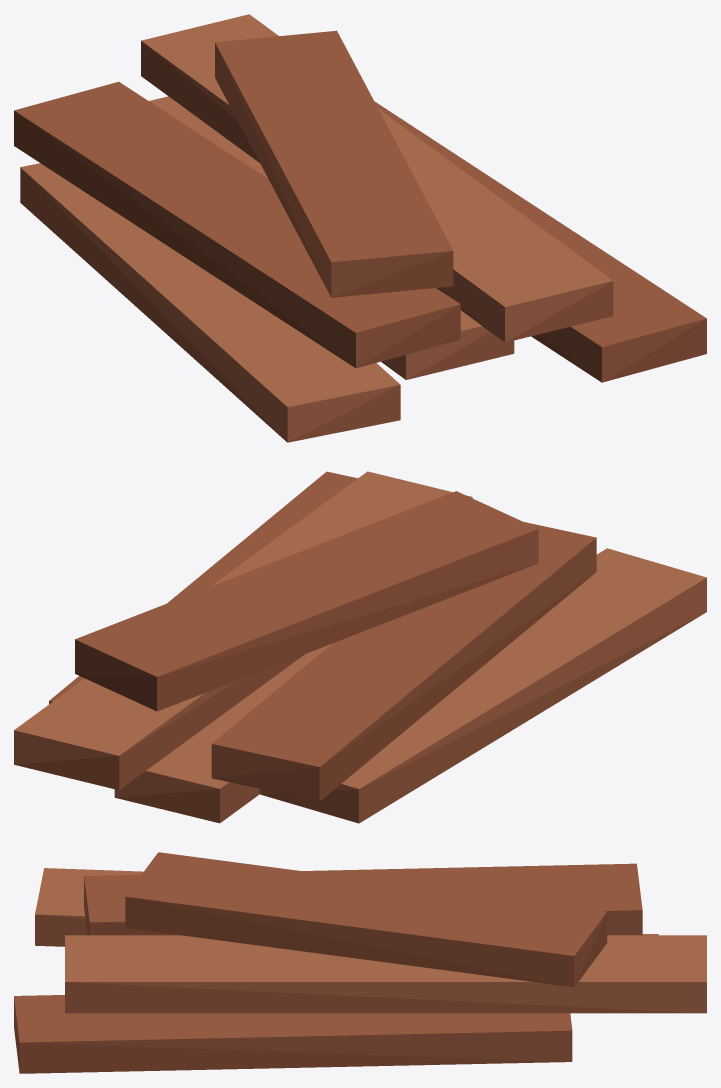
Rendered from survival_resource_planks.glb.
The picture shows the model from 3 angles, top to bottom: view 1: azimuth 30°, elevation 25°; view 2: azimuth 150°, elevation 25°; view 3: azimuth 270°, elevation 25°; orthographic projection. The views are drawn at different scales.
Parts seen in each view (by area): view 1: survival_resource_planks; view 2: survival_resource_planks; view 3: survival_resource_planks.
Boxes of the visible parts, box(x1,y1,x2,y2) form: survival_resource_planks: box(14, 14, 706, 442); survival_resource_planks: box(14, 471, 706, 823); survival_resource_planks: box(14, 852, 706, 1073).
Size of the model in its own units: 0.3729 by 0.0936 by 0.626.
